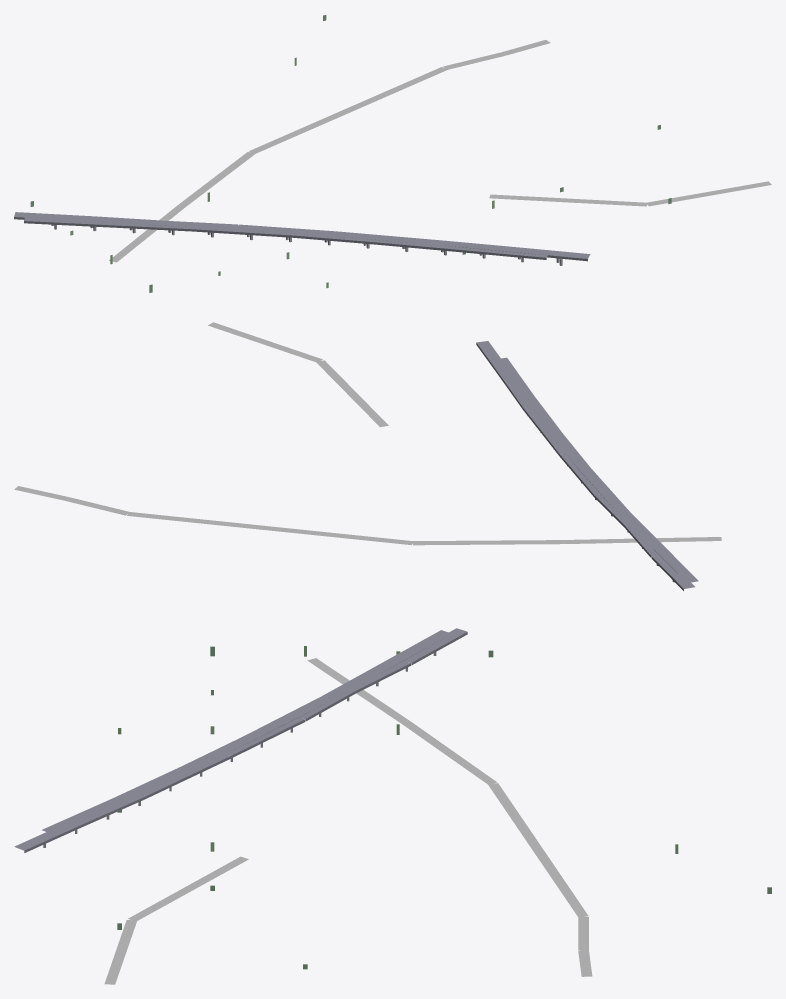
The picture shows the model from 3 angles, top to bottom: view 1: azimuth 30°, elevation 25°; view 2: azimuth 150°, elevation 25°; view 3: azimuth 270°, elevation 25°; orthographic projection. The views are drawn at different scales.
Size of the model in its own units: 534 by 9.71 by 490.
